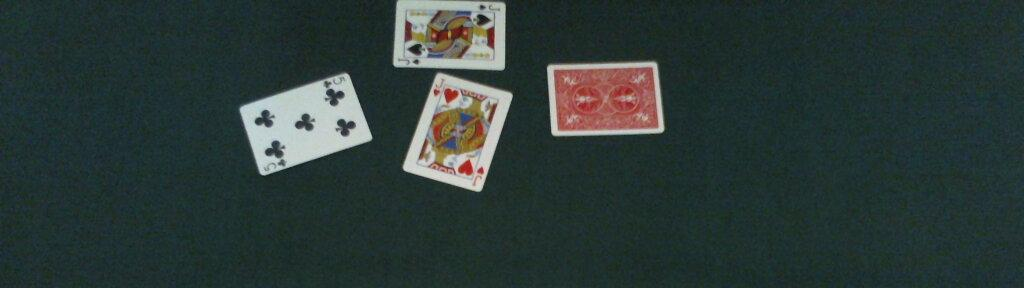back: (547, 61, 664, 135)
five: (238, 72, 371, 175)
jack: (400, 71, 514, 193), (393, 1, 505, 69)
